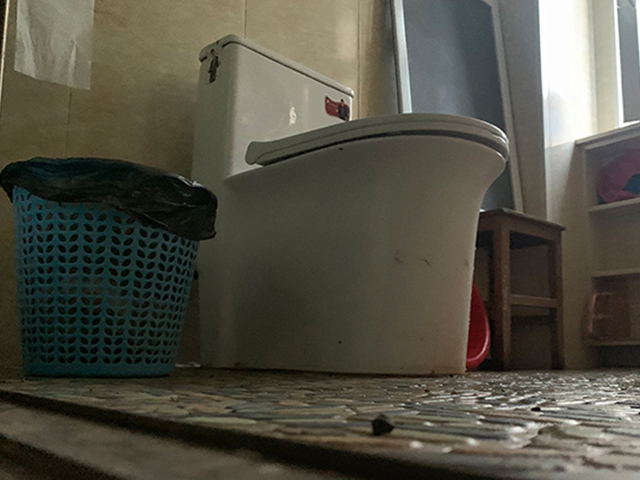closestool: (194, 33, 509, 378)
stool: (476, 205, 570, 369)
trashcan: (1, 153, 218, 380)
